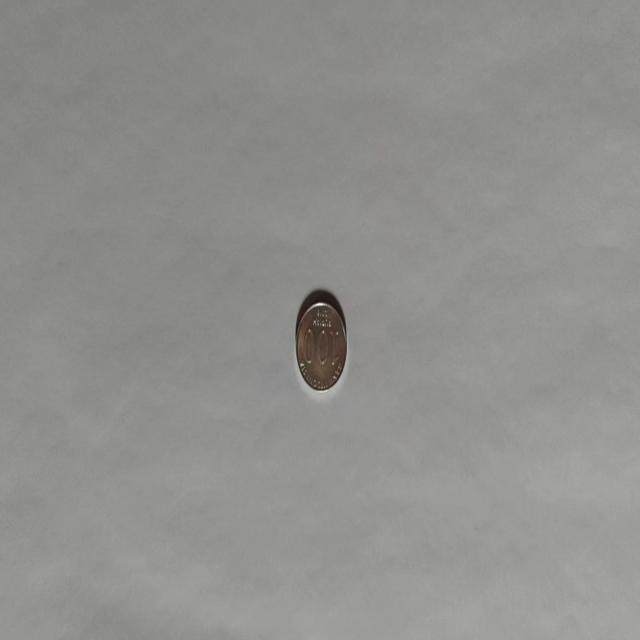seratus rupiah: (294, 297, 348, 392)
